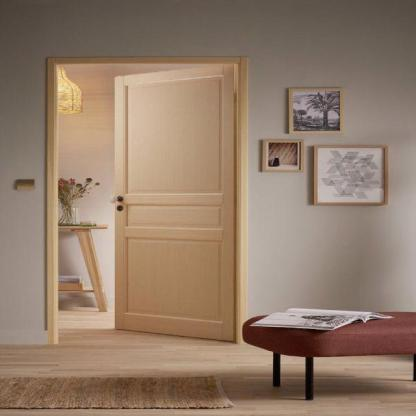door: (41, 48, 258, 350)
